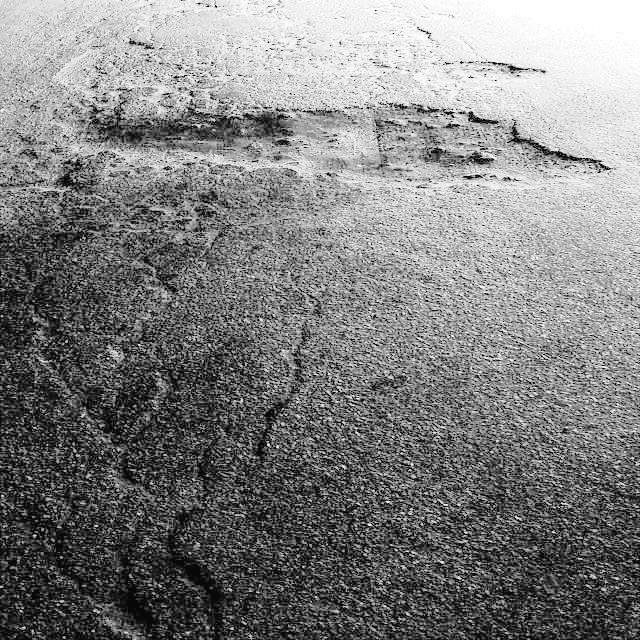Pothole: (97, 80, 613, 195)
